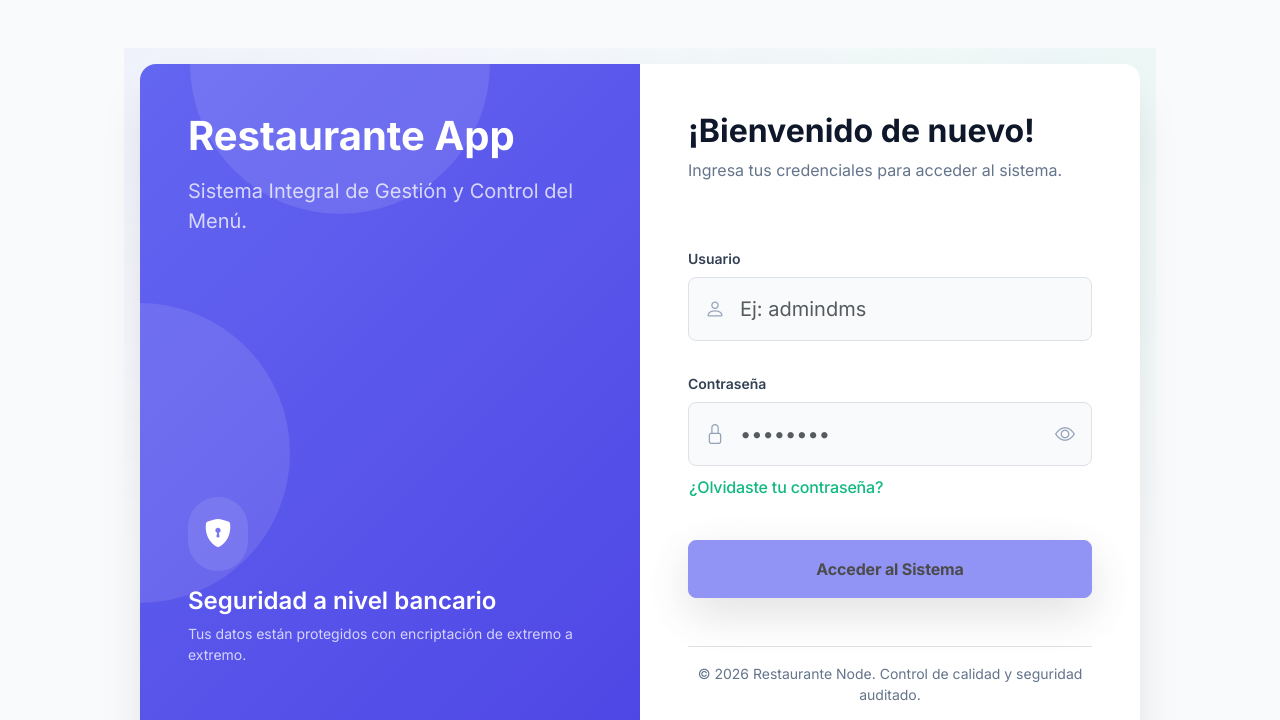
Flujo de Login › debería mostrar mensaje de error si el login falla
This screenshot has width=1280, height=720.
Type "admin" into the field with id "login_user".
click(908, 309); type("admin")  # box x1=724 y1=278 x2=1091 y2=340
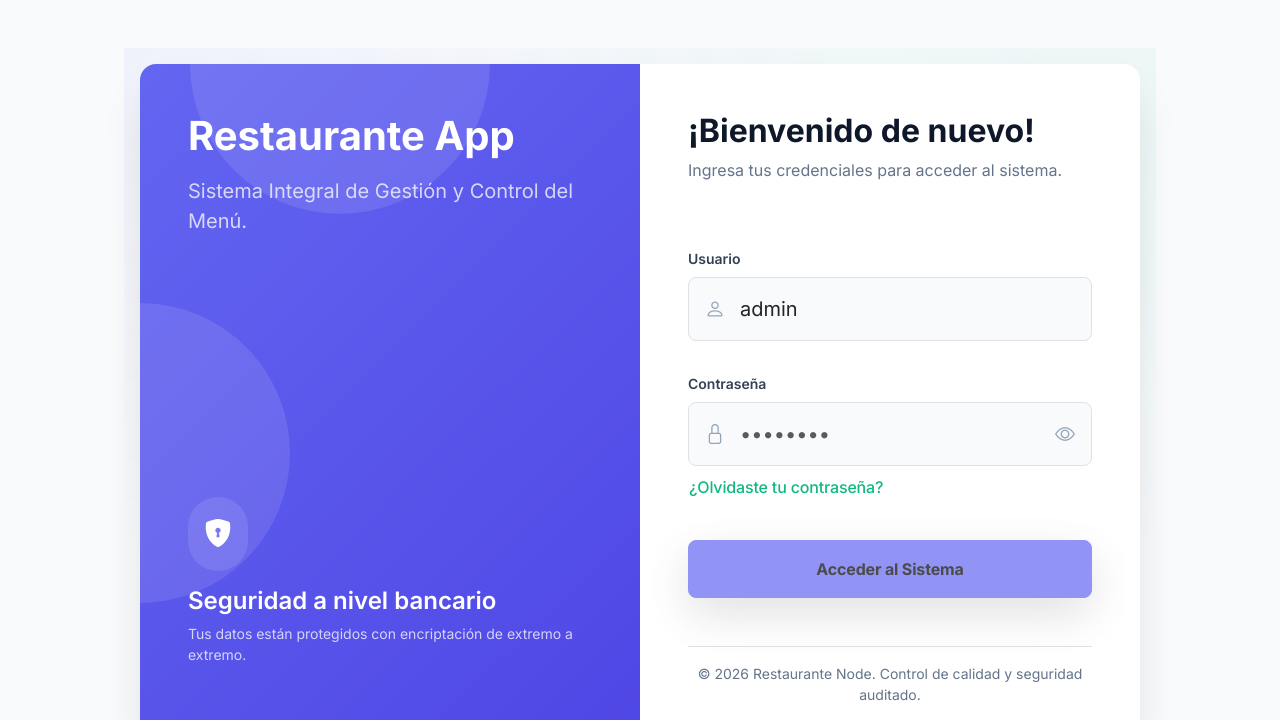
Type "password123" into the password field with id "login_pass".
click(882, 434); type("password123")  # box x1=724 y1=403 x2=1040 y2=465
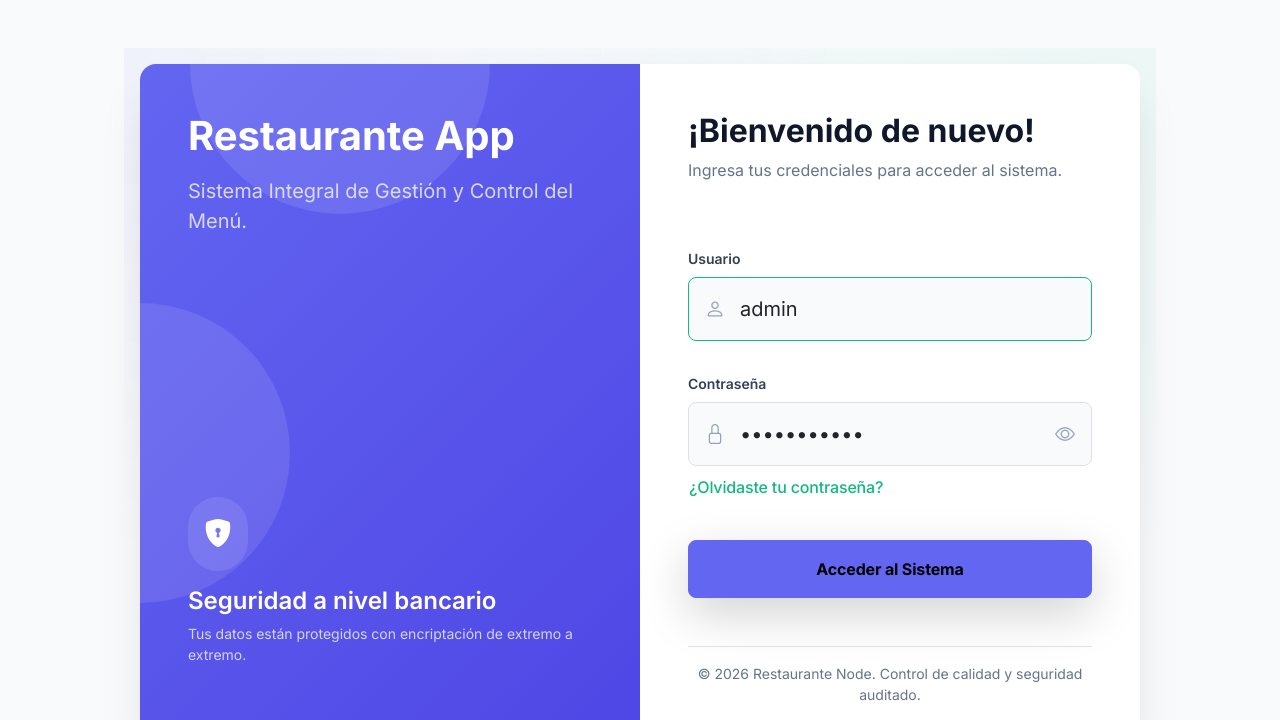
Click the submit button.
click(890, 569)  # box x1=688 y1=540 x2=1092 y2=598
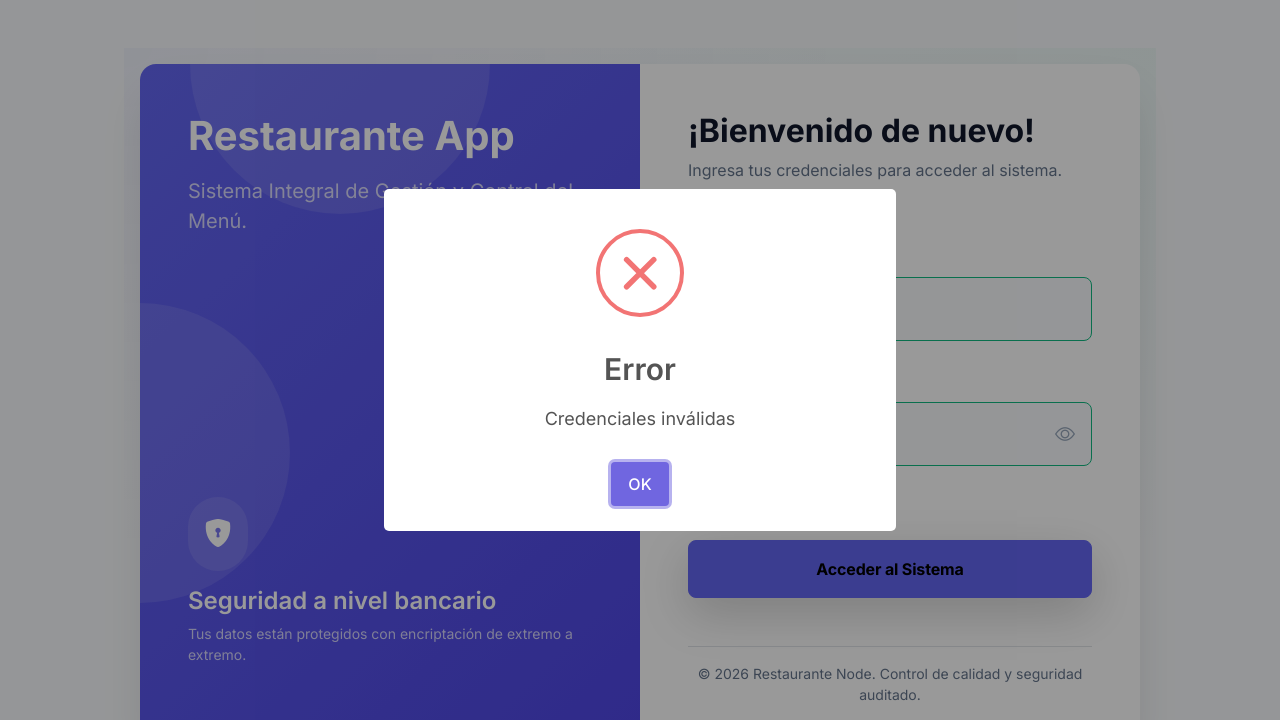
Result: the element with class "swal2-container" is shown
Result: the text "Credenciales inválidas" is shown at x1=545 y1=408 x2=735 y2=429
